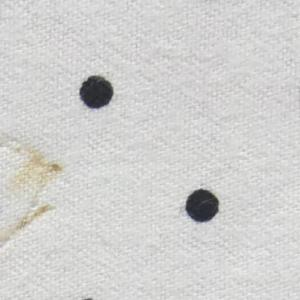Oil Stain: (1, 131, 70, 256)
